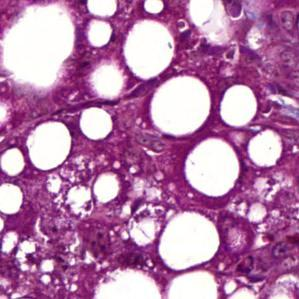steatosis: (151, 75, 212, 136), (160, 212, 220, 269), (186, 136, 241, 198), (25, 118, 71, 173), (222, 82, 258, 127)
